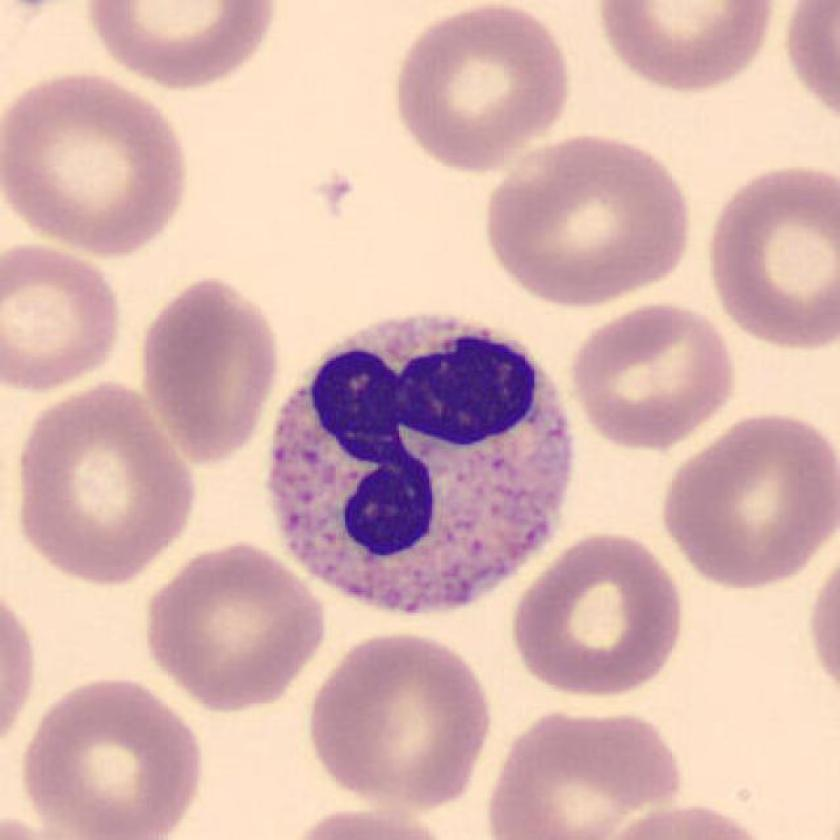neutrophil: (269, 316, 573, 614)
